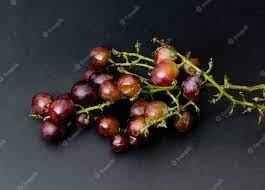Grape Rotten: (28, 41, 210, 152)
